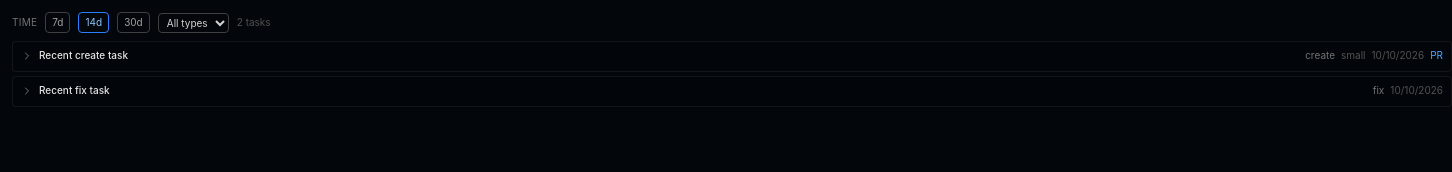
Test: SrUnhandledEdgesRetrospective › filters by task type and expands edge details
Expected: the text "Recent create task" is shown, [39,49,128,61]
Expected: the text "Recent fix task" is shown, [39,84,110,96]
Select "create" in the dropdown showing "All types" at (193, 22), box [158,12,229,32]
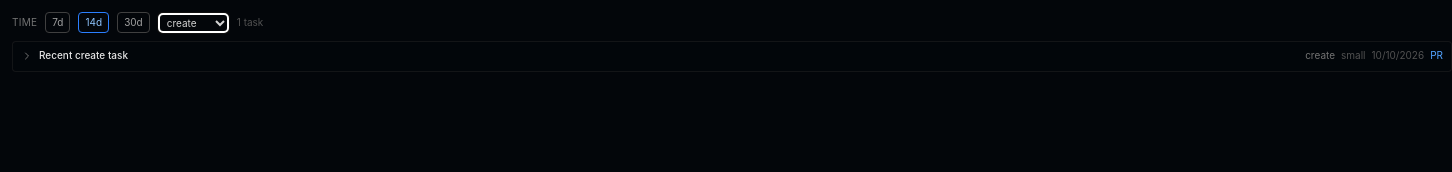
Expected: the text "Recent create task" is shown, [39,49,128,61]
Expected: the text "Recent fix task" is gone
Click the button named "expand recent create task".
click(27, 56)  # box [21,50,33,62]
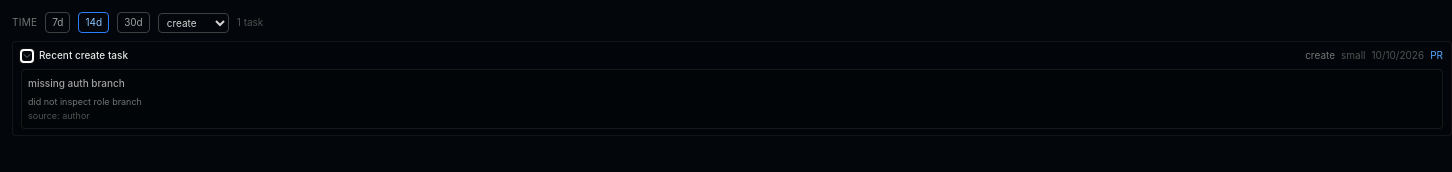
Expected: the text "missing auth branch" is shown, [28,77,125,89]
Expected: the text "did not inspect role branch" is shown, [28,96,142,107]
Expected: the text "source: author" is shown, [28,110,90,120]
